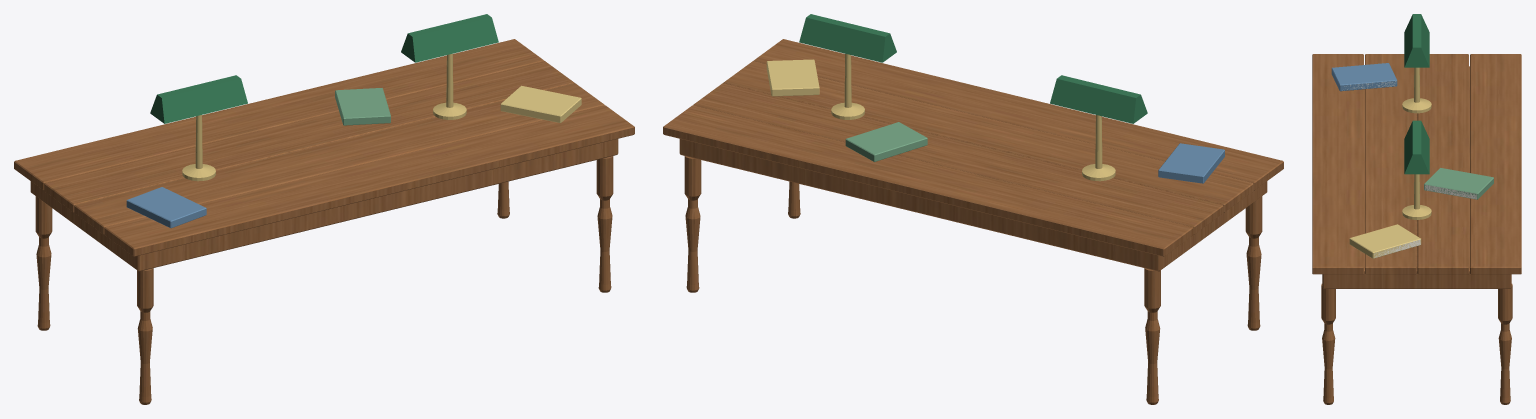
Rendered from mesa_leitura.glb.
3 views of the same model, side by side, from view 1: azimuth 30°, elevation 25°; view 2: azimuth 150°, elevation 25°; view 3: azimuth 270°, elevation 25° (orthographic). The views are drawn at different scales.
Visible parts, largest first — view 1: mesa_leitura_madeira, mesa_leitura_abajur_verde, mesa_leitura_livro_4, mesa_leitura_livro_2, mesa_leitura_livro_3, mesa_leitura_ouro_velho; view 2: mesa_leitura_madeira, mesa_leitura_abajur_verde, mesa_leitura_livro_3, mesa_leitura_livro_2, mesa_leitura_livro_4, mesa_leitura_ouro_velho; view 3: mesa_leitura_madeira, mesa_leitura_abajur_verde, mesa_leitura_livro_2, mesa_leitura_livro_4, mesa_leitura_livro_3, mesa_leitura_ouro_velho, mesa_leitura_papel.
Boxes of the visible parts, left/top/right/bottom form: mesa_leitura_madeira: left=14, top=39, right=634, bottom=404; mesa_leitura_abajur_verde: left=150, top=14, right=498, bottom=123; mesa_leitura_livro_4: left=500, top=85, right=581, bottom=123; mesa_leitura_livro_2: left=126, top=187, right=206, bottom=228; mesa_leitura_livro_3: left=335, top=88, right=390, bottom=125; mesa_leitura_ouro_velho: left=182, top=53, right=466, bottom=181; mesa_leitura_madeira: left=663, top=39, right=1283, bottom=404; mesa_leitura_abajur_verde: left=799, top=14, right=1147, bottom=123; mesa_leitura_livro_3: left=845, top=122, right=927, bottom=161; mesa_leitura_livro_2: left=1158, top=143, right=1224, bottom=183; mesa_leitura_livro_4: left=766, top=59, right=819, bottom=96; mesa_leitura_ouro_velho: left=831, top=53, right=1115, bottom=181; mesa_leitura_madeira: left=1312, top=54, right=1521, bottom=404; mesa_leitura_abajur_verde: left=1404, top=14, right=1429, bottom=174; mesa_leitura_livro_2: left=1331, top=63, right=1397, bottom=91; mesa_leitura_livro_4: left=1349, top=224, right=1421, bottom=258; mesa_leitura_livro_3: left=1424, top=168, right=1493, bottom=199; mesa_leitura_ouro_velho: left=1402, top=67, right=1431, bottom=219; mesa_leitura_papel: left=1342, top=81, right=1476, bottom=257.
Bounding box in the file's own units: 2.4 × 1.16 × 0.996.
Materials: 8 (1 with a texture image).
